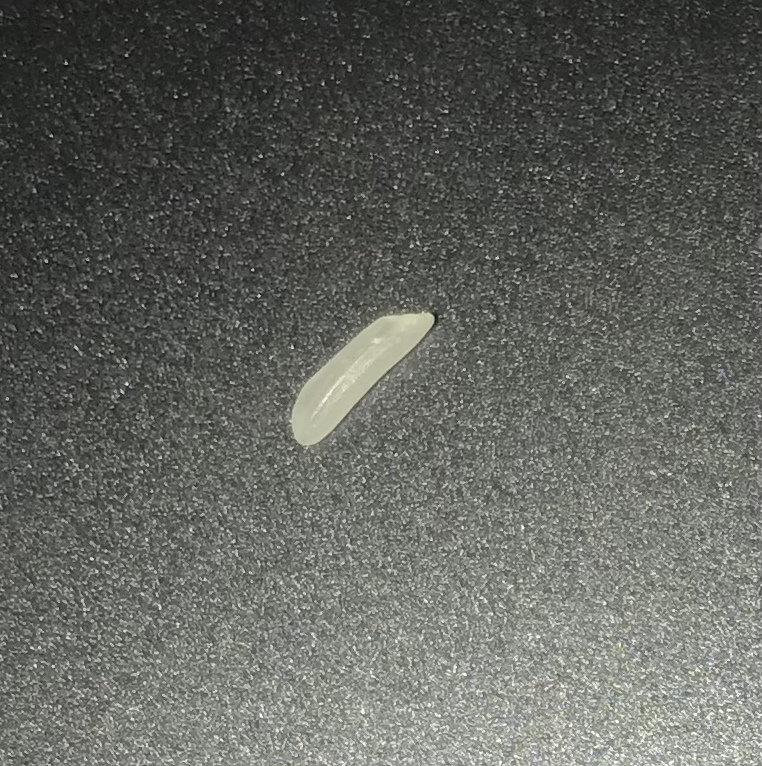Gao Long Lai: (280, 293, 437, 454)
